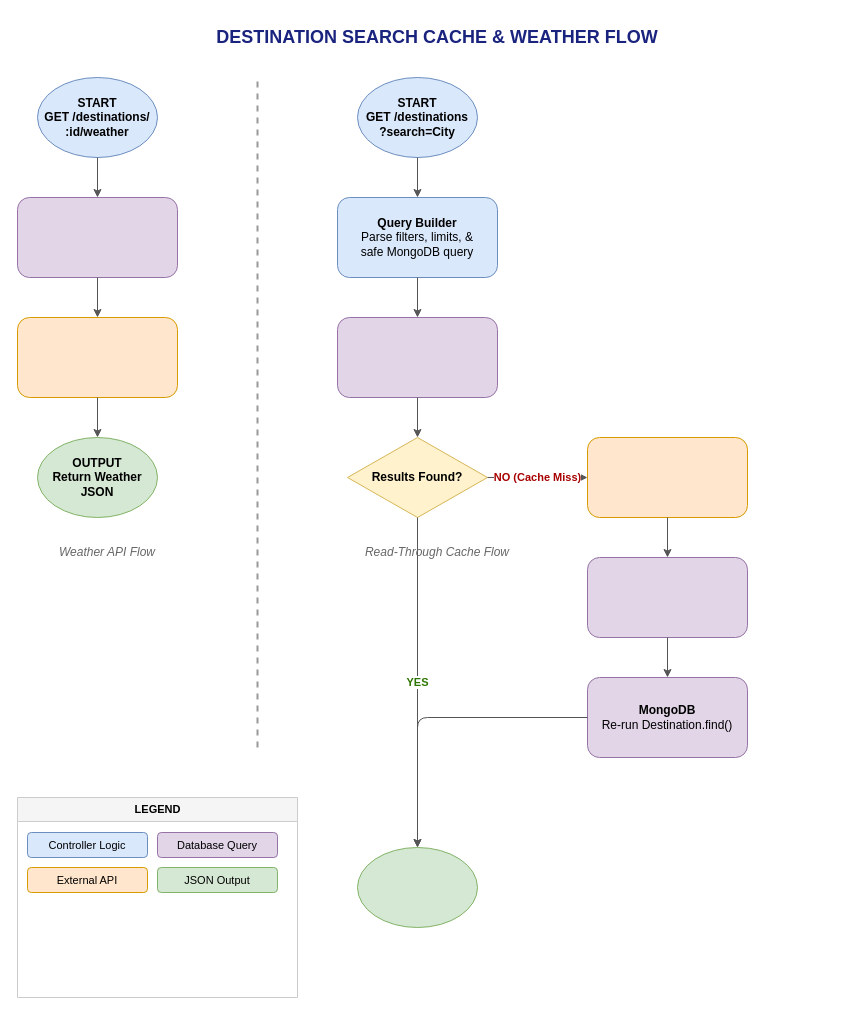
Some shapes in this 855 by 1015 pixel diagram are drawn without their labels. The shapes that lost their labels are listed below. From the top down, each one's centre as x and y in pixels, then its label:
At point (97, 237): "MongoDB Destination.findById(id) (Get City Name)".
At point (97, 357): "External API Service getWeatherForCity() (OpenWeather/Etc)".
At point (417, 357): "MongoDB Destination.find(filter)".
At point (667, 477): "External API Service fetchAndFormatDestination() (Scrape/Geoapify)".
At point (667, 597): "MongoDB Destination.create(new)".
At point (417, 887): "OUTPUT Return JSON Payload".
